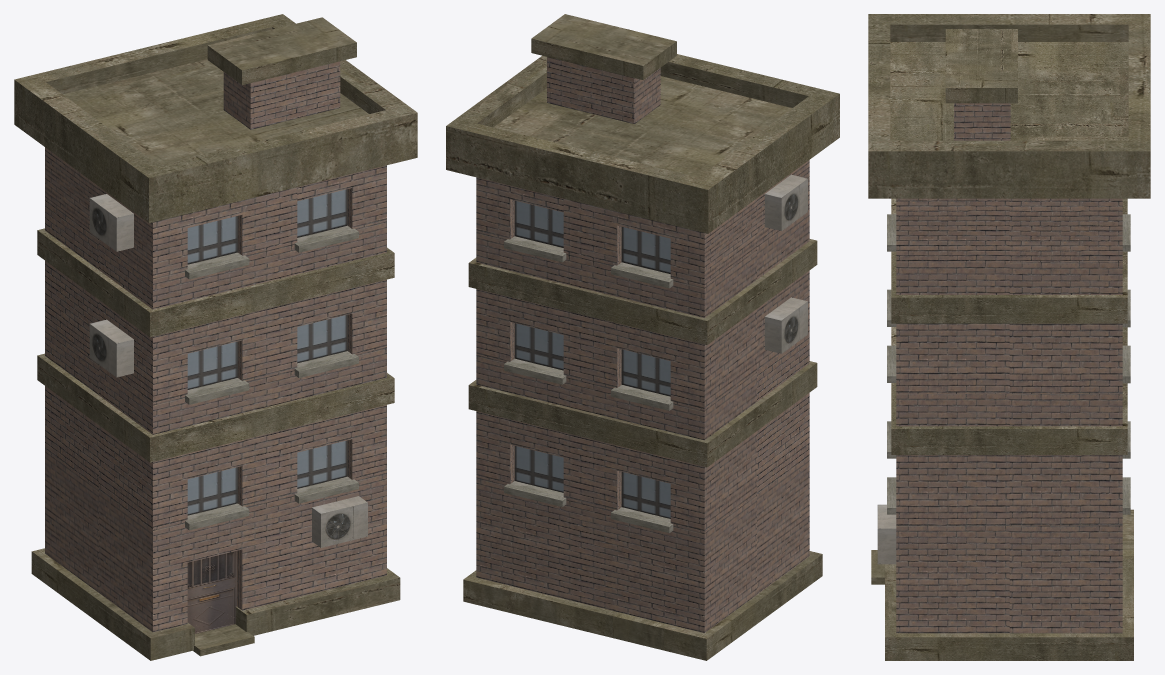
Rendered from Building04B2.fbx.
The picture shows the model from 3 angles, left to right: view 1: azimuth 30°, elevation 25°; view 2: azimuth 150°, elevation 25°; view 3: azimuth 270°, elevation 25°; orthographic projection. The views are drawn at different scales.
Visible parts, largest first — view 1: UB; view 2: UB; view 3: UB.
Part boxes in pixels (x1,y1,x2,y2): UB: [14, 14, 417, 660]; UB: [446, 14, 839, 660]; UB: [868, 14, 1150, 660].
Bounding box in the file's own units: 5.15 × 9.91 × 4.48.
